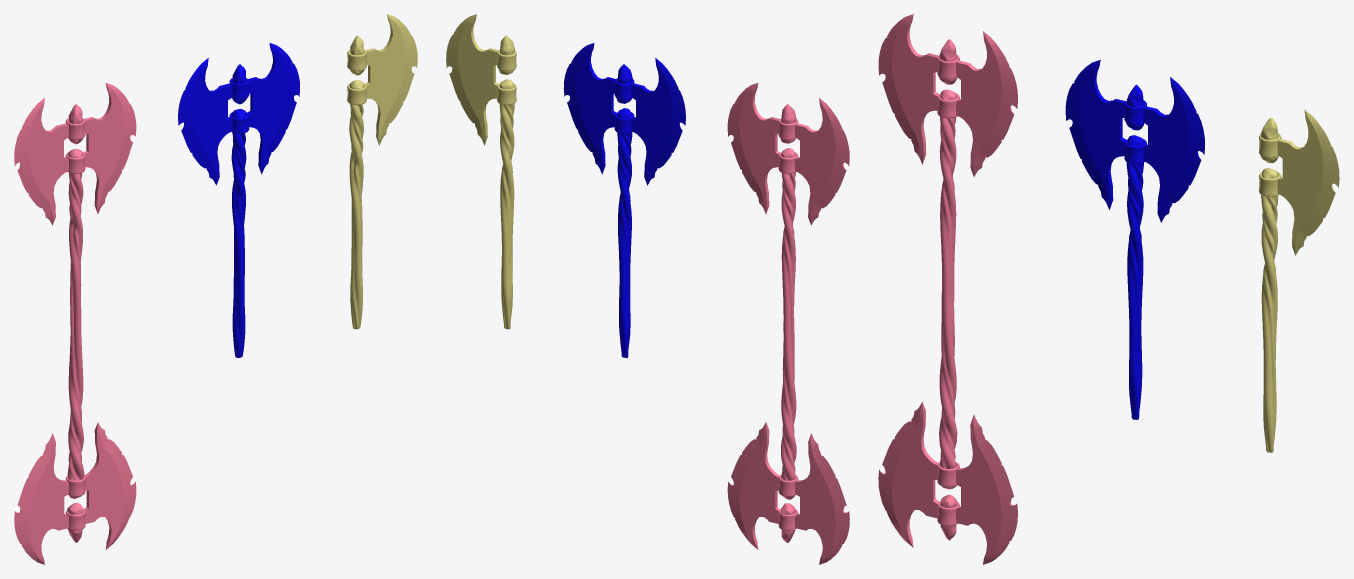
File: balta.fbx
The picture shows the model from 3 angles, left to right: view 1: azimuth 30°, elevation 25°; view 2: azimuth 150°, elevation 25°; view 3: azimuth 330°, elevation 25°; orthographic projection. The views are drawn at different scales.
Visible parts, largest first — view 1: uzunbalta, ciftbalta, coklubalta; view 2: uzunbalta, ciftbalta, coklubalta; view 3: uzunbalta, ciftbalta, coklubalta.
Part boxes in pixels (left/top/right/bottom): uzunbalta: left=14, top=83, right=136, bottom=564; ciftbalta: left=178, top=43, right=299, bottom=357; coklubalta: left=347, top=14, right=417, bottom=329; uzunbalta: left=727, top=83, right=849, bottom=564; ciftbalta: left=563, top=43, right=685, bottom=358; coklubalta: left=446, top=14, right=516, bottom=329; uzunbalta: left=878, top=14, right=1017, bottom=564; ciftbalta: left=1065, top=59, right=1204, bottom=419; coklubalta: left=1258, top=109, right=1339, bottom=452.
Bounding box in the file's own units: 191 × 211 × 8.17.
